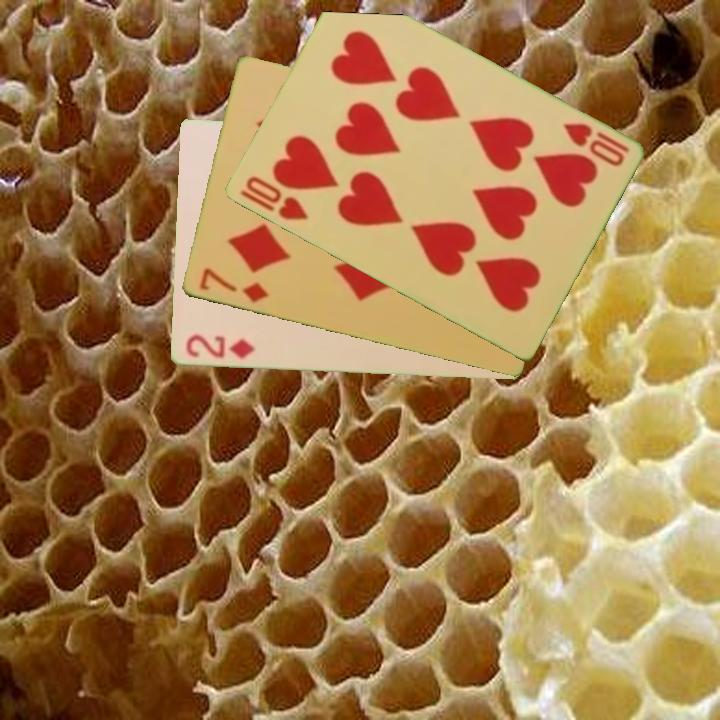10h: (236, 172, 311, 224), (559, 119, 632, 170)
2d: (181, 331, 257, 362)
7d: (195, 264, 271, 306)
